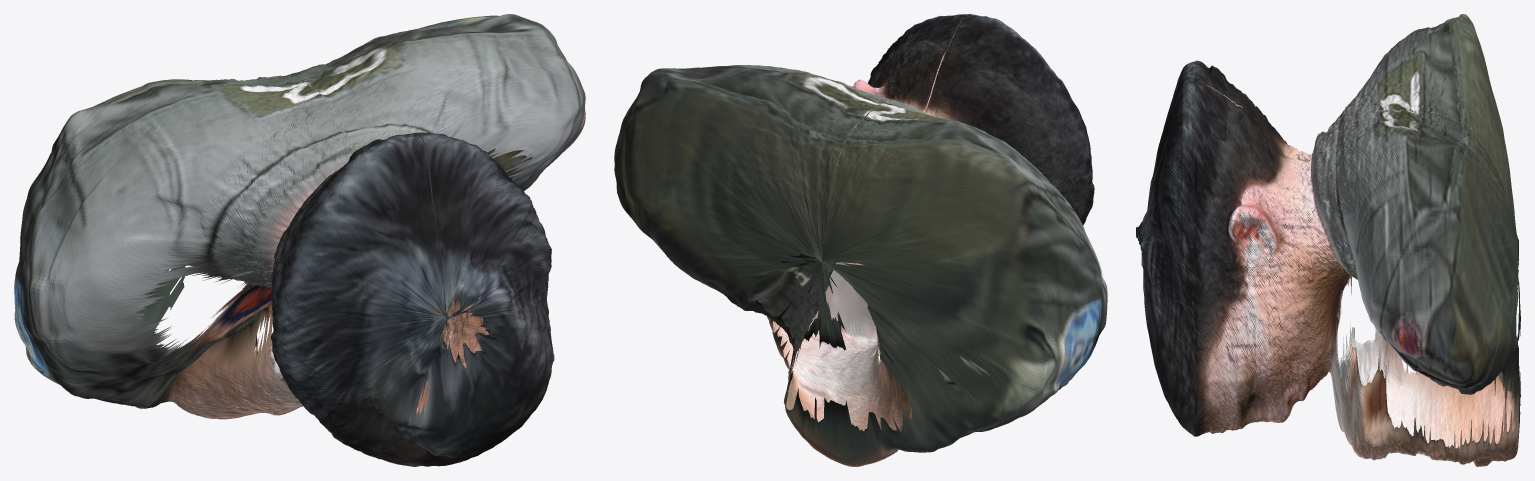
3 views of the same model, side by side, from view 1: azimuth 30°, elevation 25°; view 2: azimuth 150°, elevation 25°; view 3: azimuth 270°, elevation 25° (orthographic). The views are drawn at different scales.
Parts seen in each view (by area): view 1: geometry_0; view 2: geometry_0; view 3: geometry_0.
Part boxes in pixels (x1,y1,x2,y2): geometry_0: (14, 14, 585, 466); geometry_0: (614, 14, 1107, 466); geometry_0: (1136, 14, 1520, 466).
Bounding box in the file's own units: 1.99 × 1.36 × 1.23.
1 material, 1 textured.
